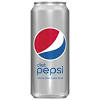pepsi_can: (29, 1, 72, 100)
